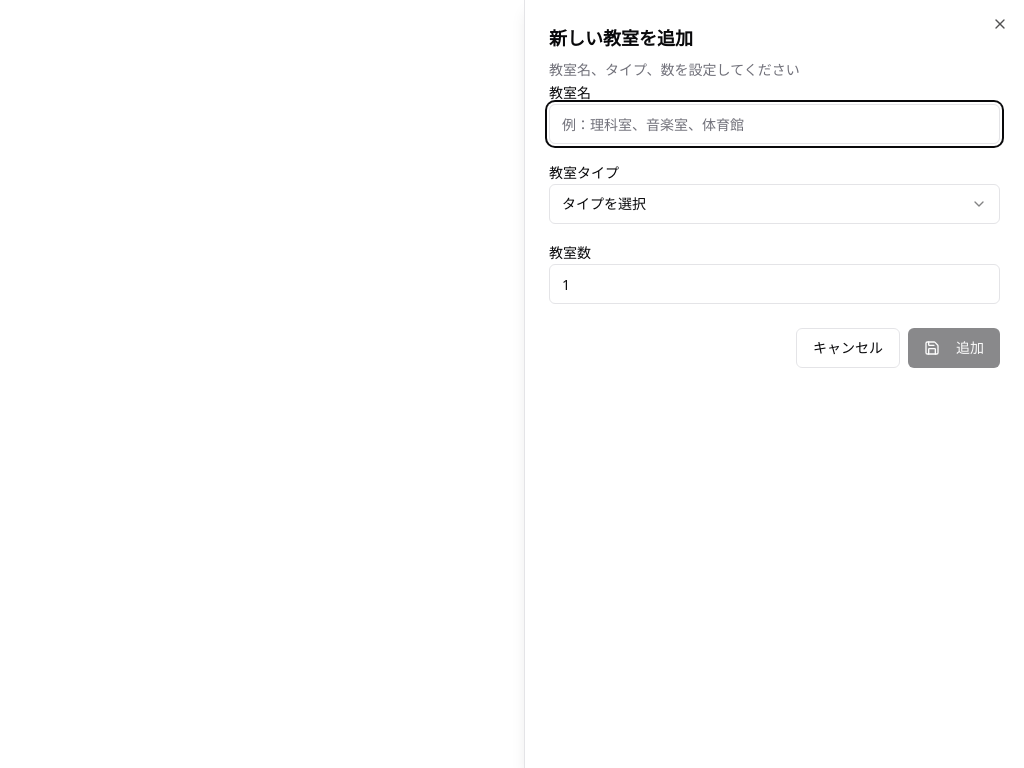
Test case: ClassroomEditDialog › 教室タイプの選択が正しく動作する
The image size is (1024, 768).
What coordinates should you click on to do the following:
click the dropdown
I would click on:
 (604, 204)
Its box is [549, 184, 1000, 224].
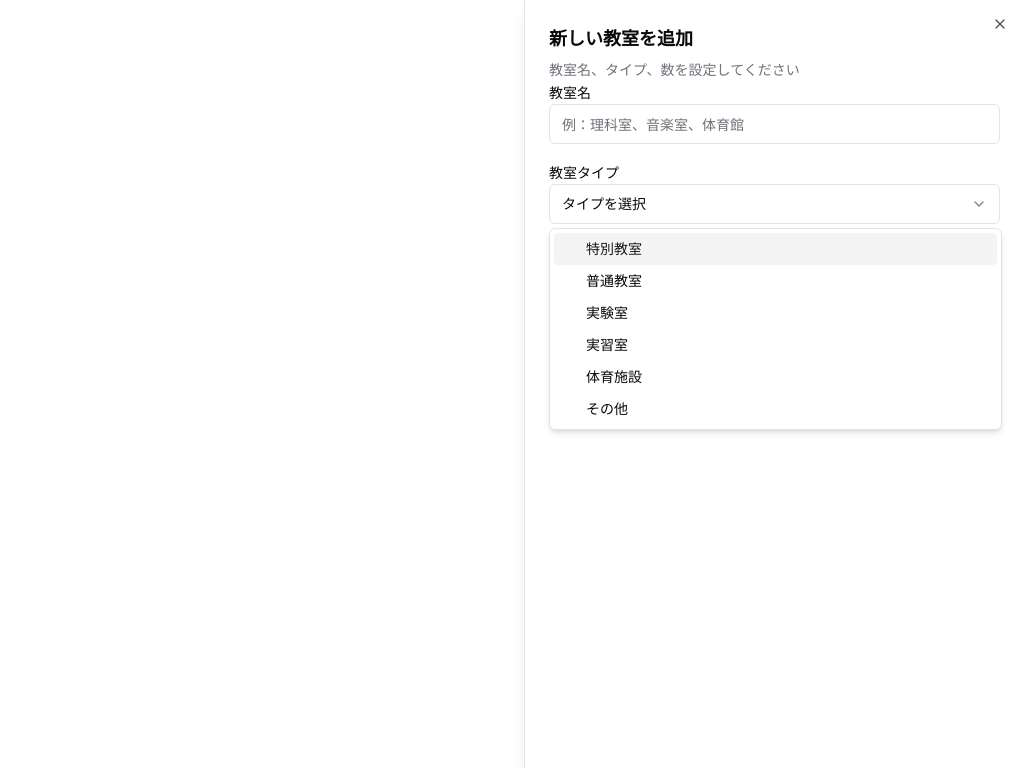
Expected: the option "実験室" is shown
What coordinates should you click on to do the following:
click the option "実験室"
I would click on:
 (607, 312)
Its box is [586, 303, 628, 322].
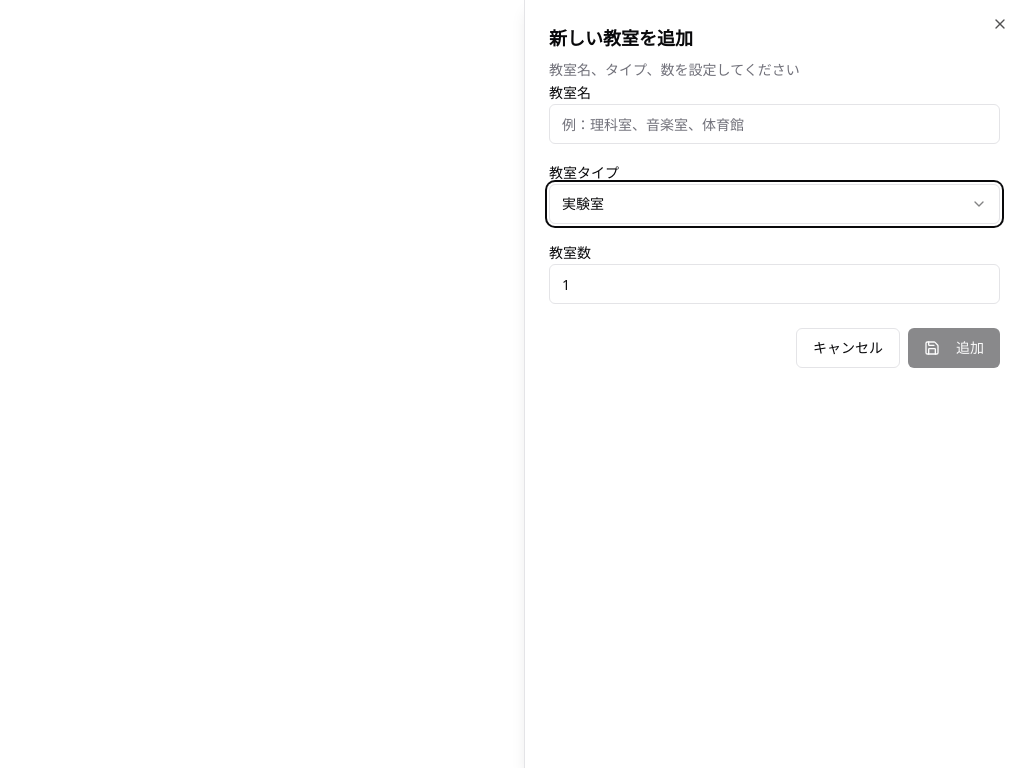
Expected: the dropdown reads "実験室", [549, 184, 1000, 224]
